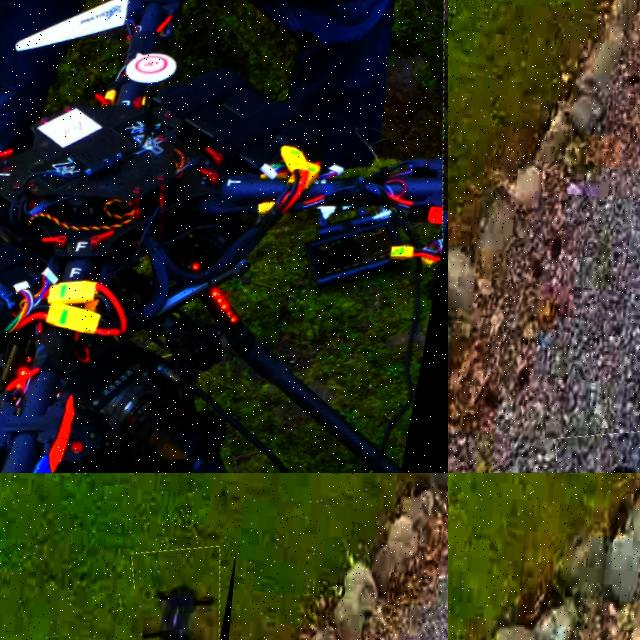0: (126, 542, 236, 640), (549, 420, 640, 473)
drone: (0, 0, 448, 473)
